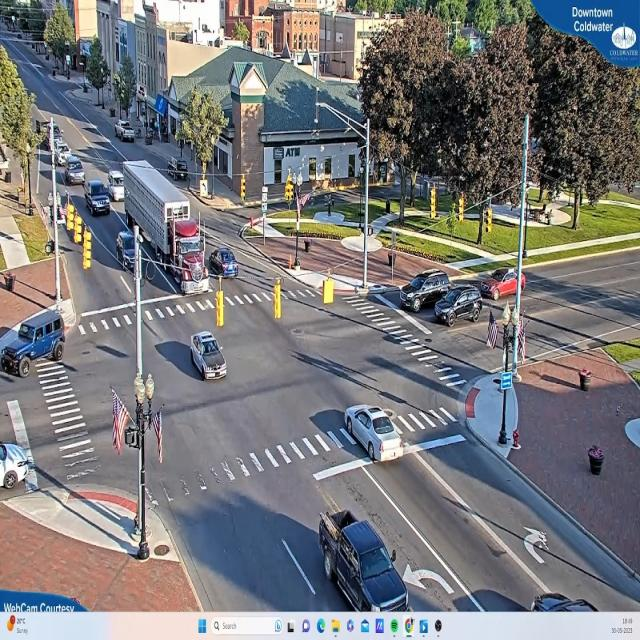car: (319, 509, 412, 610), (2, 303, 68, 376), (346, 406, 407, 464), (400, 272, 454, 310), (434, 288, 485, 326), (0, 443, 38, 491), (192, 333, 229, 381), (480, 269, 527, 302), (113, 232, 143, 272), (84, 180, 110, 217), (211, 246, 237, 281), (65, 158, 85, 184), (117, 121, 137, 144)
truck: (165, 202, 212, 310)
